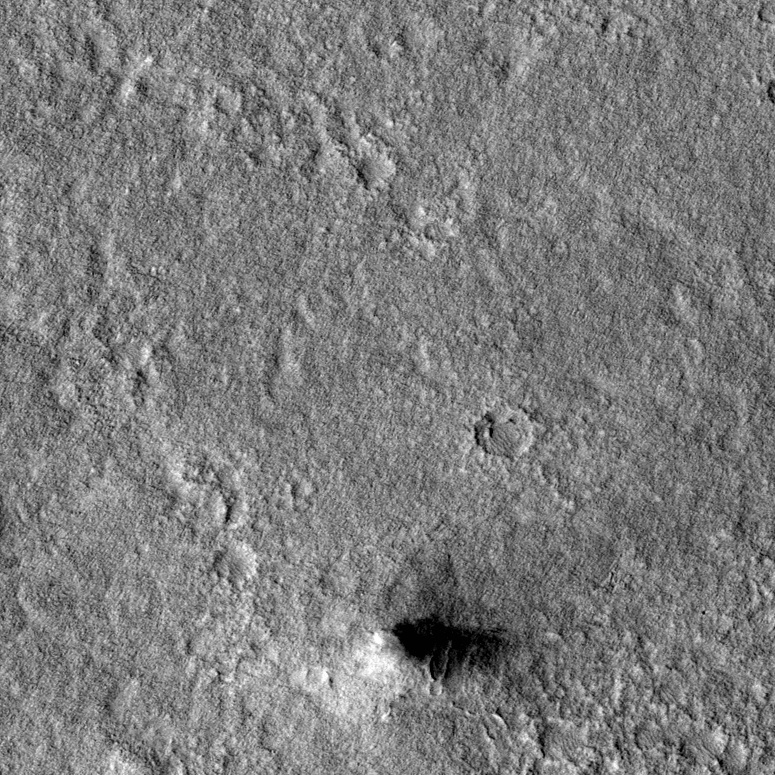dust_devil: (354, 612, 510, 692)
